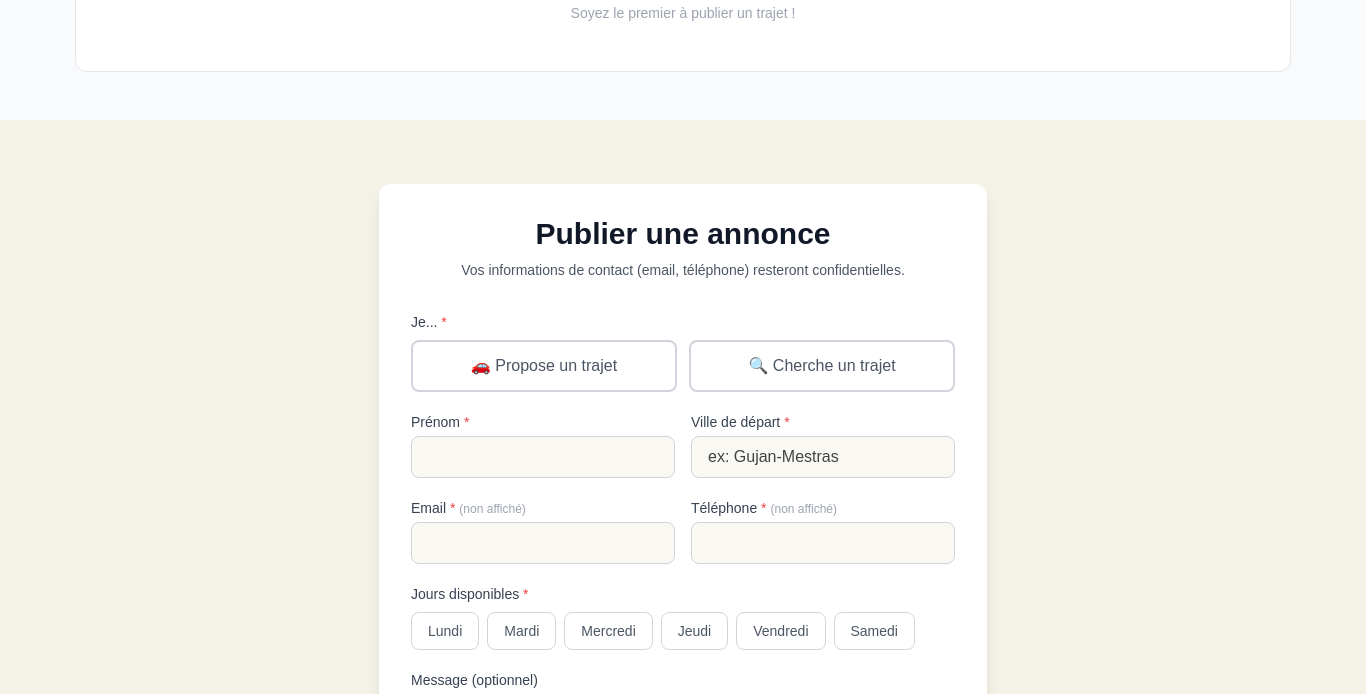
Test: CovoituragePage › shows error when submitting with no days selected
(page scrolled)
Click the button "🚗 Propose un trajet" at [544, 366], box left=411, top=340, right=677, bottom=392
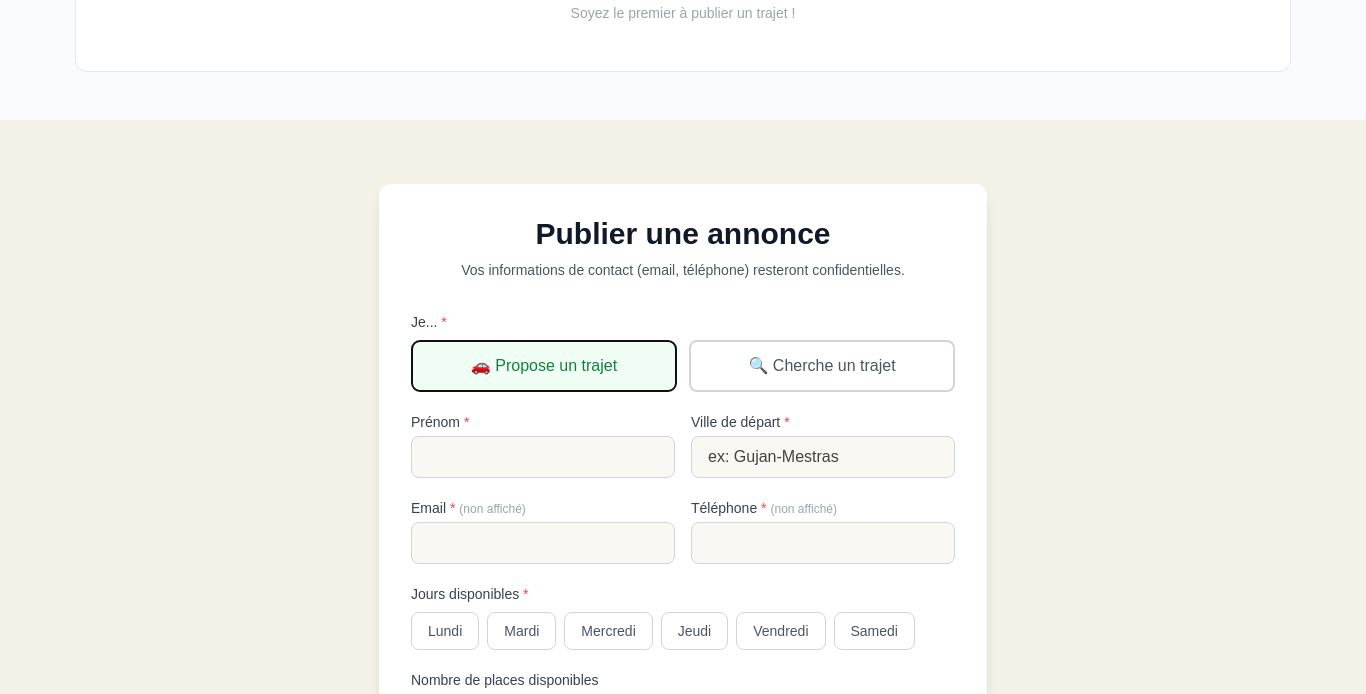
Type "Jean" into the field below "Prénom" at [543, 457], box left=411, top=436, right=675, bottom=478
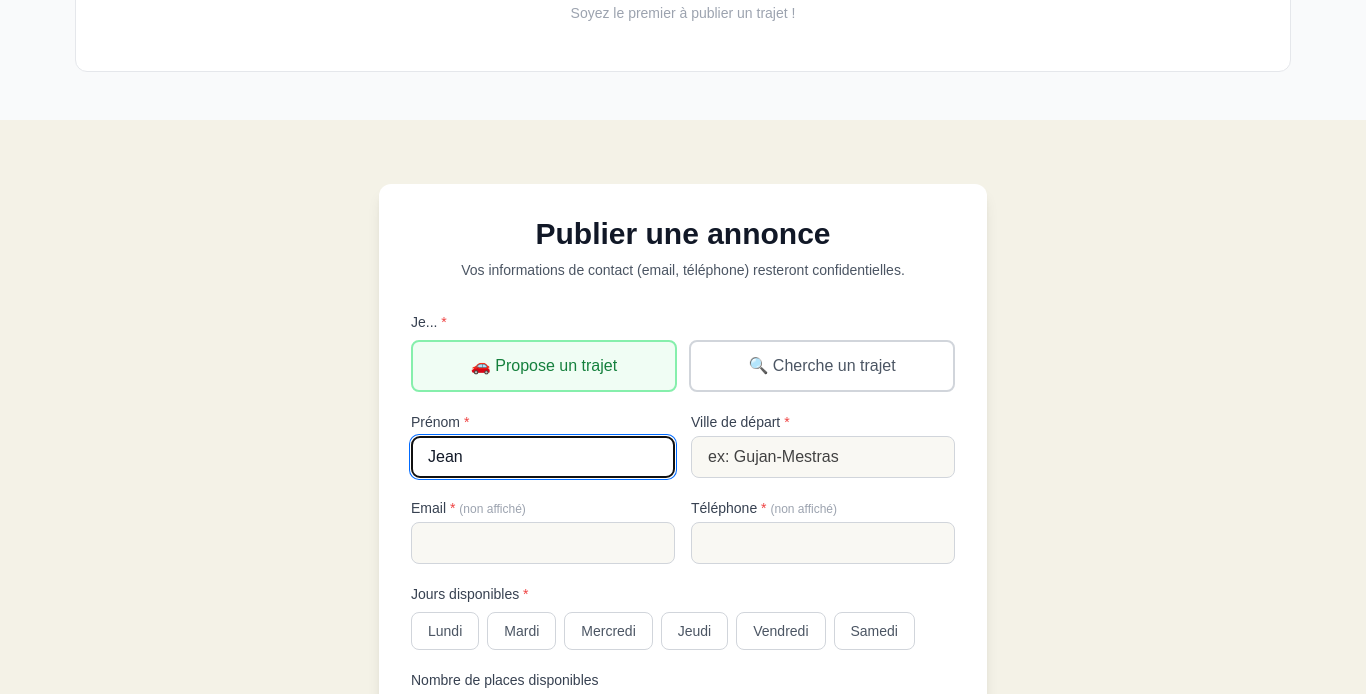
Type "Bordeaux" into the field with placeholder "ex: Gujan-Mestras" at [823, 457], box left=691, top=436, right=955, bottom=478
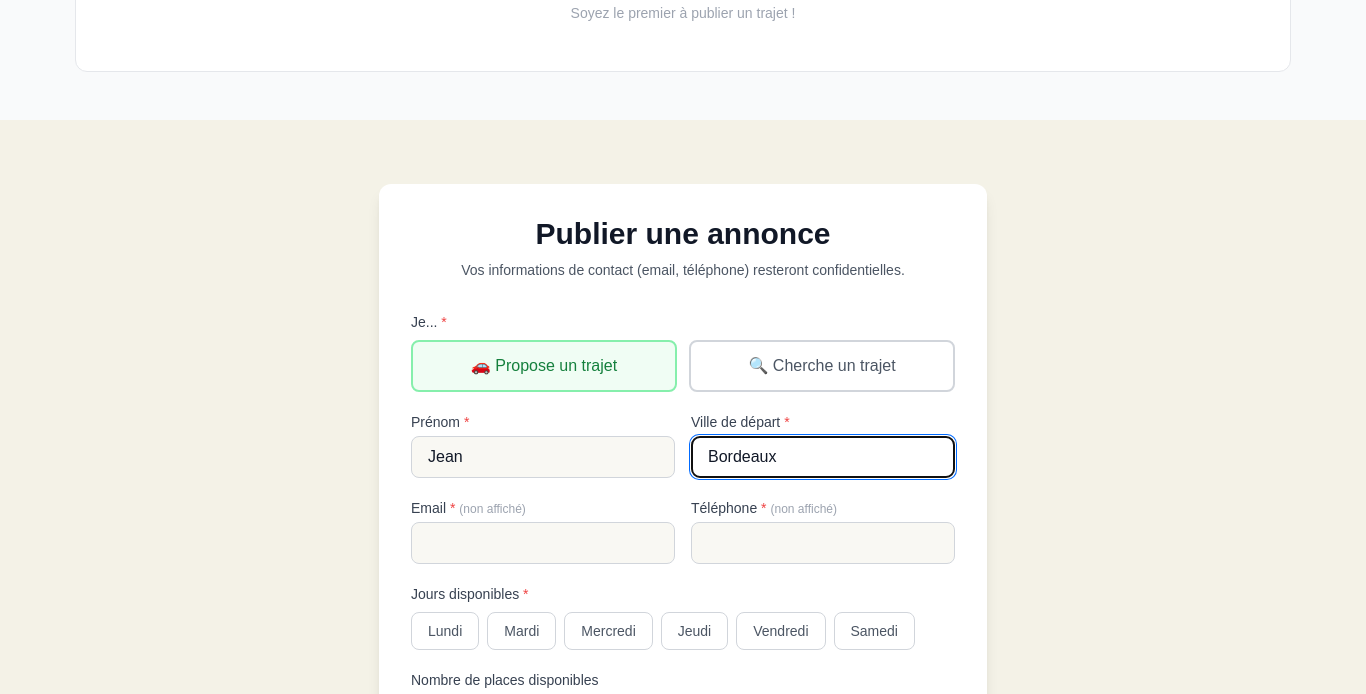
Type "jean@test.com" into the 3rd field at [543, 543], box left=411, top=522, right=675, bottom=564
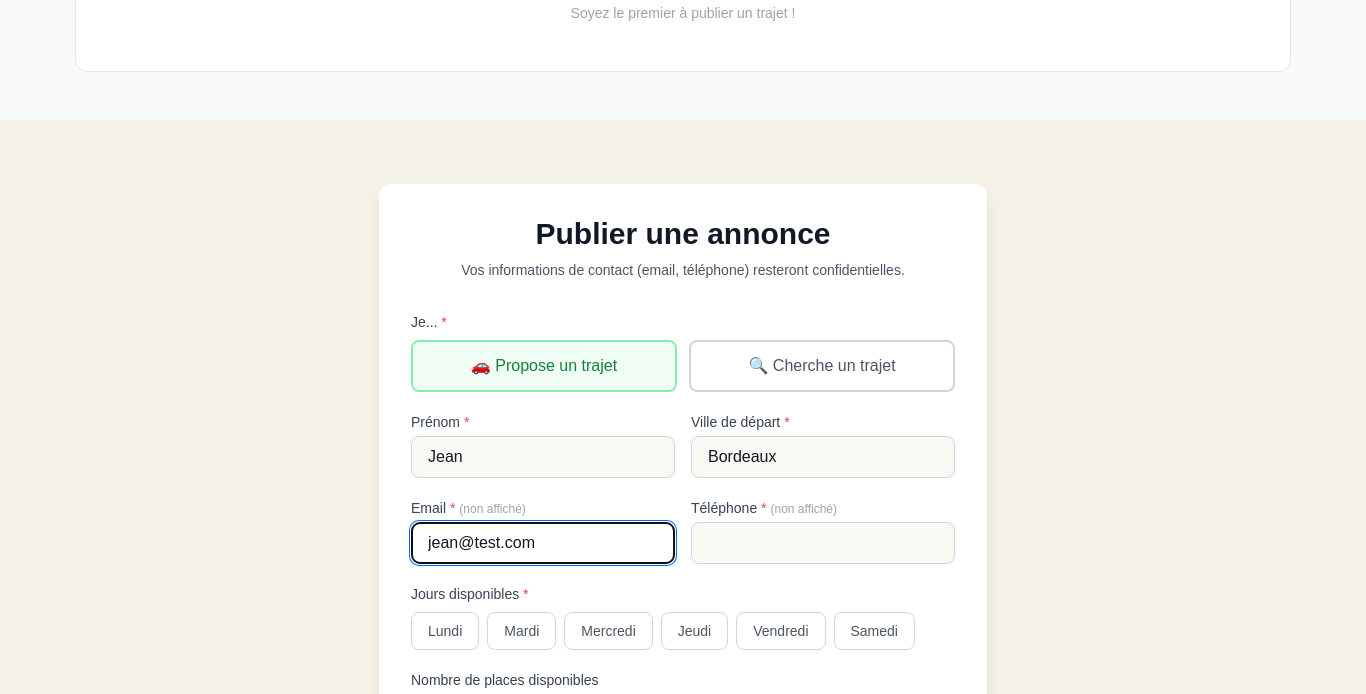
Type "0612345678" into the 4th field at [823, 543], box left=691, top=522, right=955, bottom=564
(page scrolled)
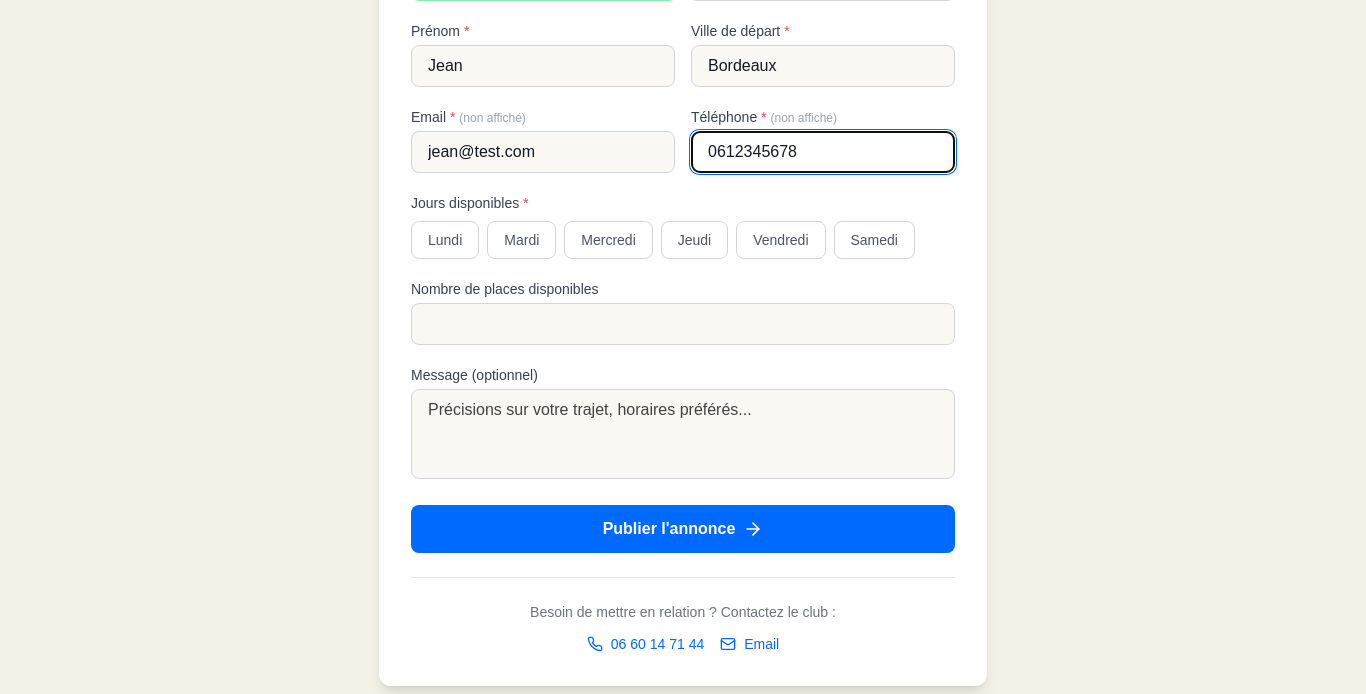
Click the button "Publier l'annonce" at [683, 529], box left=411, top=505, right=955, bottom=553
(page scrolled)
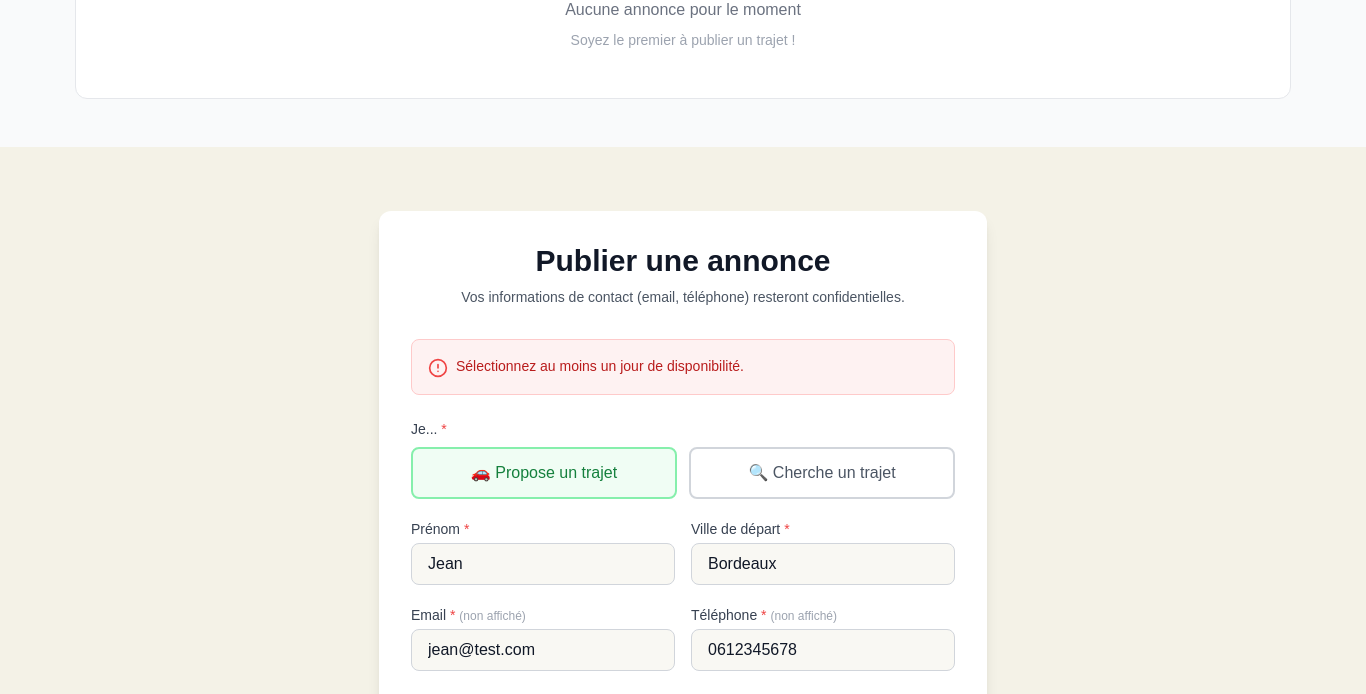
Result: the text "Sélectionnez au moins un jour de disponibilité." is shown at left=456, top=356, right=744, bottom=376
